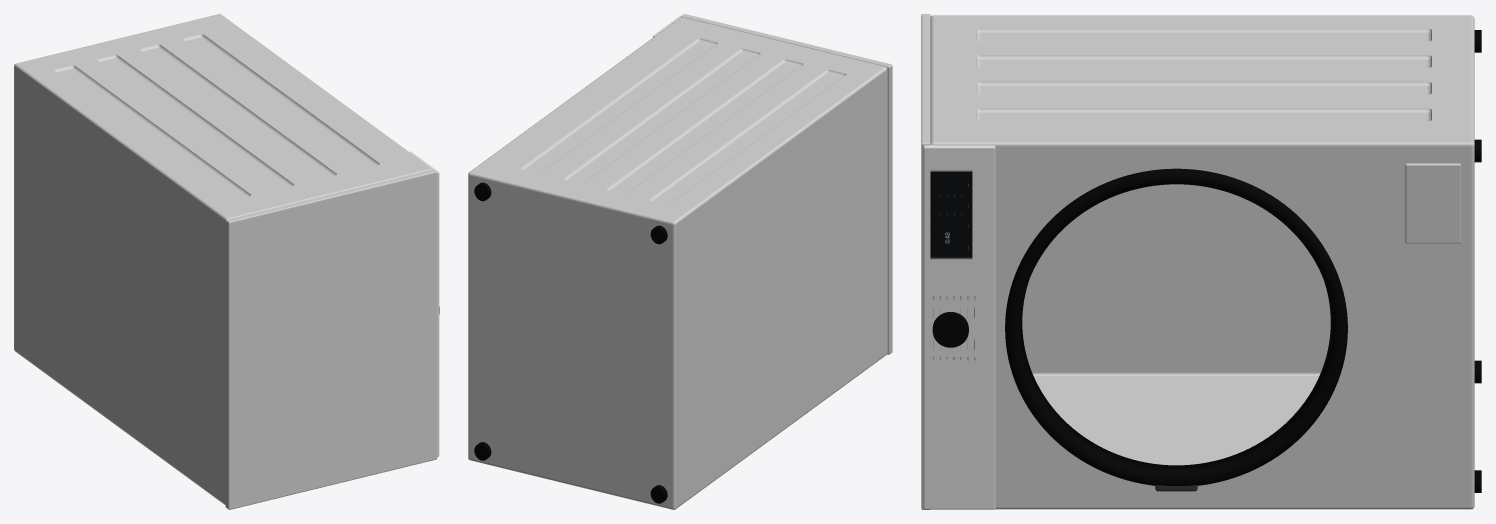
3 views of the same model, side by side, from view 1: azimuth 30°, elevation 25°; view 2: azimuth 150°, elevation 25°; view 3: azimuth 270°, elevation 25° (orthographic). The views are drawn at different scales.
Visible parts, largest first — view 1: __articraft_commit_0000_0000, __articraft_commit_0000_0001, __articraft_commit_0000_0003; view 2: __articraft_commit_0000_0000, __articraft_commit_0000_0001, __articraft_commit_0000_0002; view 3: __articraft_commit_0000_0000, __articraft_commit_0000_0003, __articraft_commit_0000_0005, __articraft_commit_0000_0004, __articraft_commit_0000_0001, __articraft_commit_0000_0006, __articraft_commit_0000_0002.
Part boxes in pixels (x1,y1,x2,y2): __articraft_commit_0000_0000: [14, 14, 432, 505]; __articraft_commit_0000_0001: [225, 169, 437, 509]; __articraft_commit_0000_0003: [409, 151, 439, 456]; __articraft_commit_0000_0000: [468, 17, 887, 509]; __articraft_commit_0000_0001: [681, 14, 892, 354]; __articraft_commit_0000_0002: [474, 182, 667, 503]; __articraft_commit_0000_0000: [930, 15, 1474, 509]; __articraft_commit_0000_0003: [923, 145, 995, 509]; __articraft_commit_0000_0005: [1005, 168, 1347, 485]; __articraft_commit_0000_0004: [1405, 163, 1461, 243]; __articraft_commit_0000_0001: [921, 14, 930, 509]; __articraft_commit_0000_0006: [932, 312, 968, 347]; __articraft_commit_0000_0002: [1474, 30, 1481, 492].
Size of the model in its own units: 0.3597 by 0.46 by 0.6357.
Materials: 5 (1 with a texture image).
